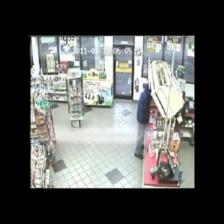person: (135, 84, 150, 158)
